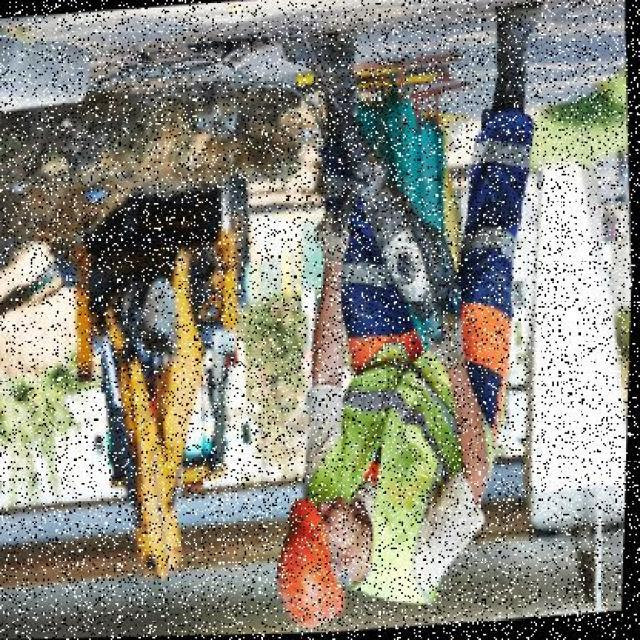helmet: (271, 491, 351, 623)
vest: (300, 298, 450, 584)
